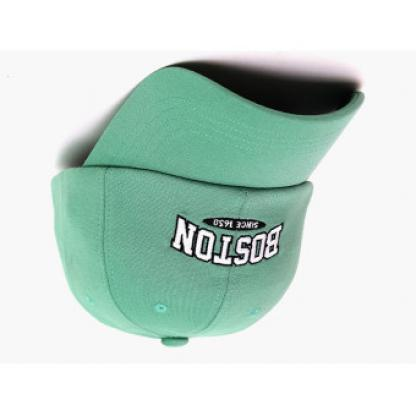cap: (42, 52, 370, 352)
